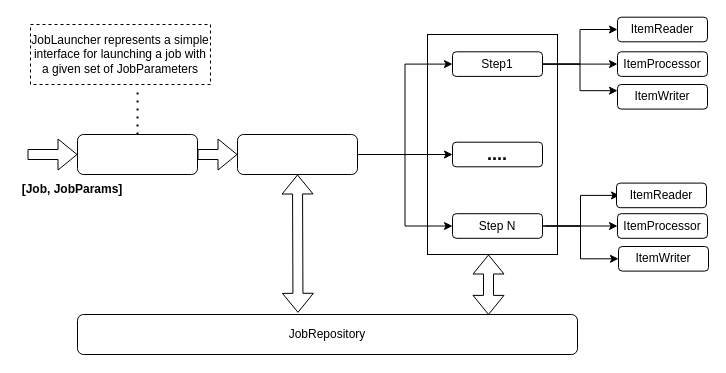
The diagram is 726 pixels wide and 373 high, and some of its shapes have lost their labels. The centre of each missing label's shape, as x and y in pixels:
Job: point (297, 154)
JobLauncher: point (137, 154)
